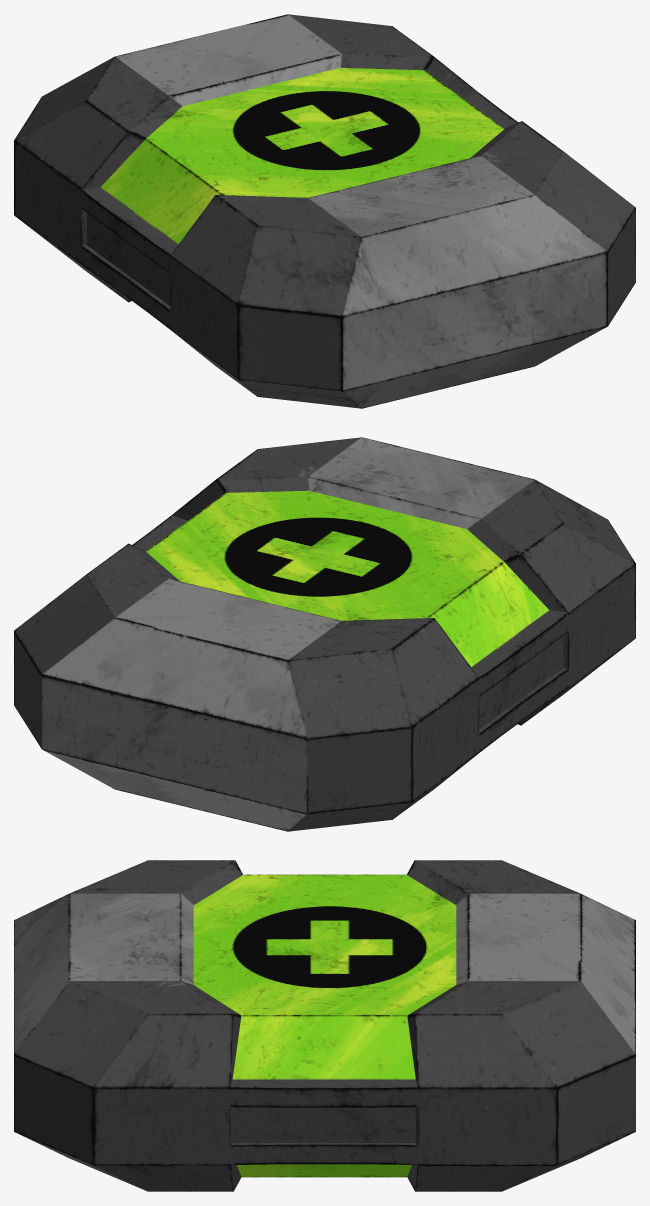
The model's file is HealthPack.fbx.
3 renders of one model, top to bottom at view 1: azimuth 30°, elevation 25°; view 2: azimuth 150°, elevation 25°; view 3: azimuth 270°, elevation 25°, orthographic. The views are drawn at different scales.
Visible parts, largest first — view 1: HealthPackOver; view 2: HealthPackOver; view 3: HealthPackOver.
Part boxes in pixels (x1,y1,x2,y2): HealthPackOver: [14, 14, 635, 408]; HealthPackOver: [14, 437, 635, 831]; HealthPackOver: [14, 860, 635, 1191].
Bounding box in the file's own units: 182 × 74.9 × 238.
